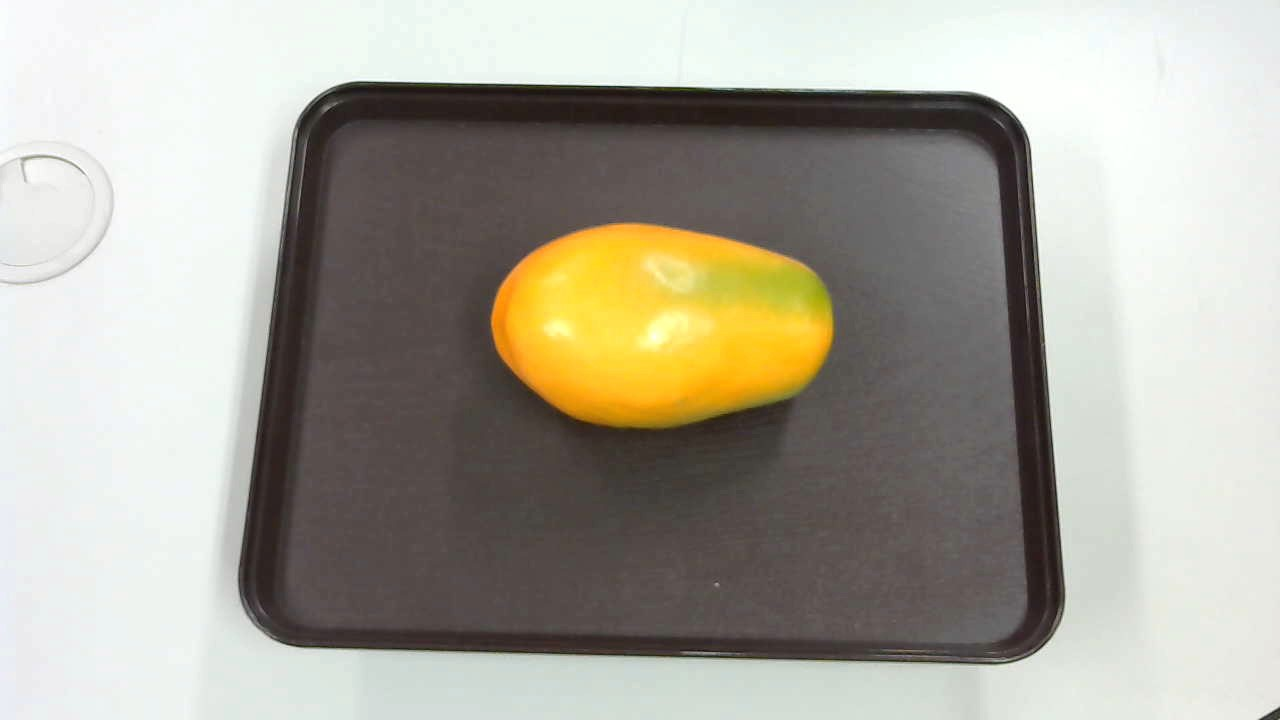papya: (481, 213, 839, 439)
